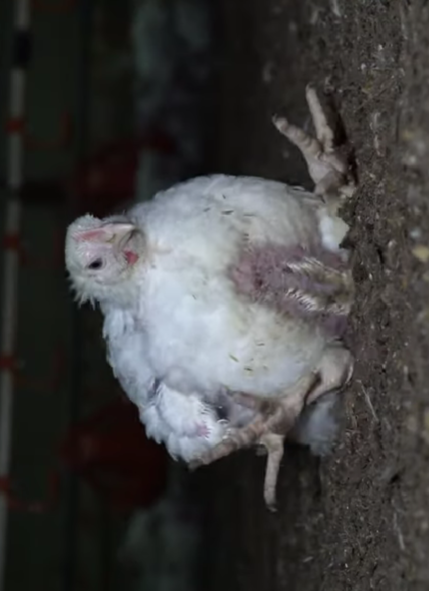Unhealthy: (33, 84, 418, 469)
